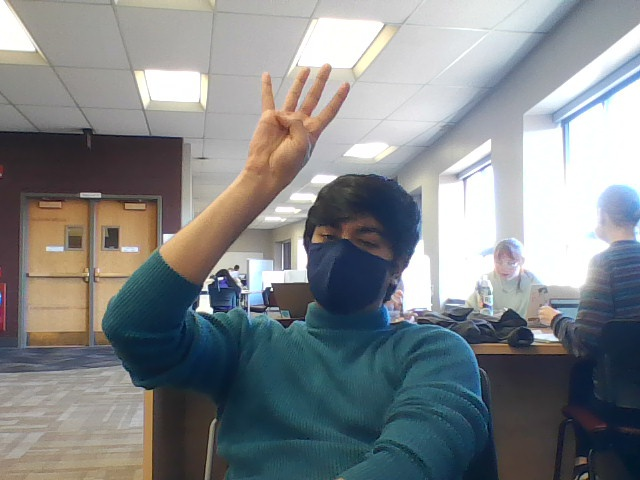four: (249, 63, 350, 194)
